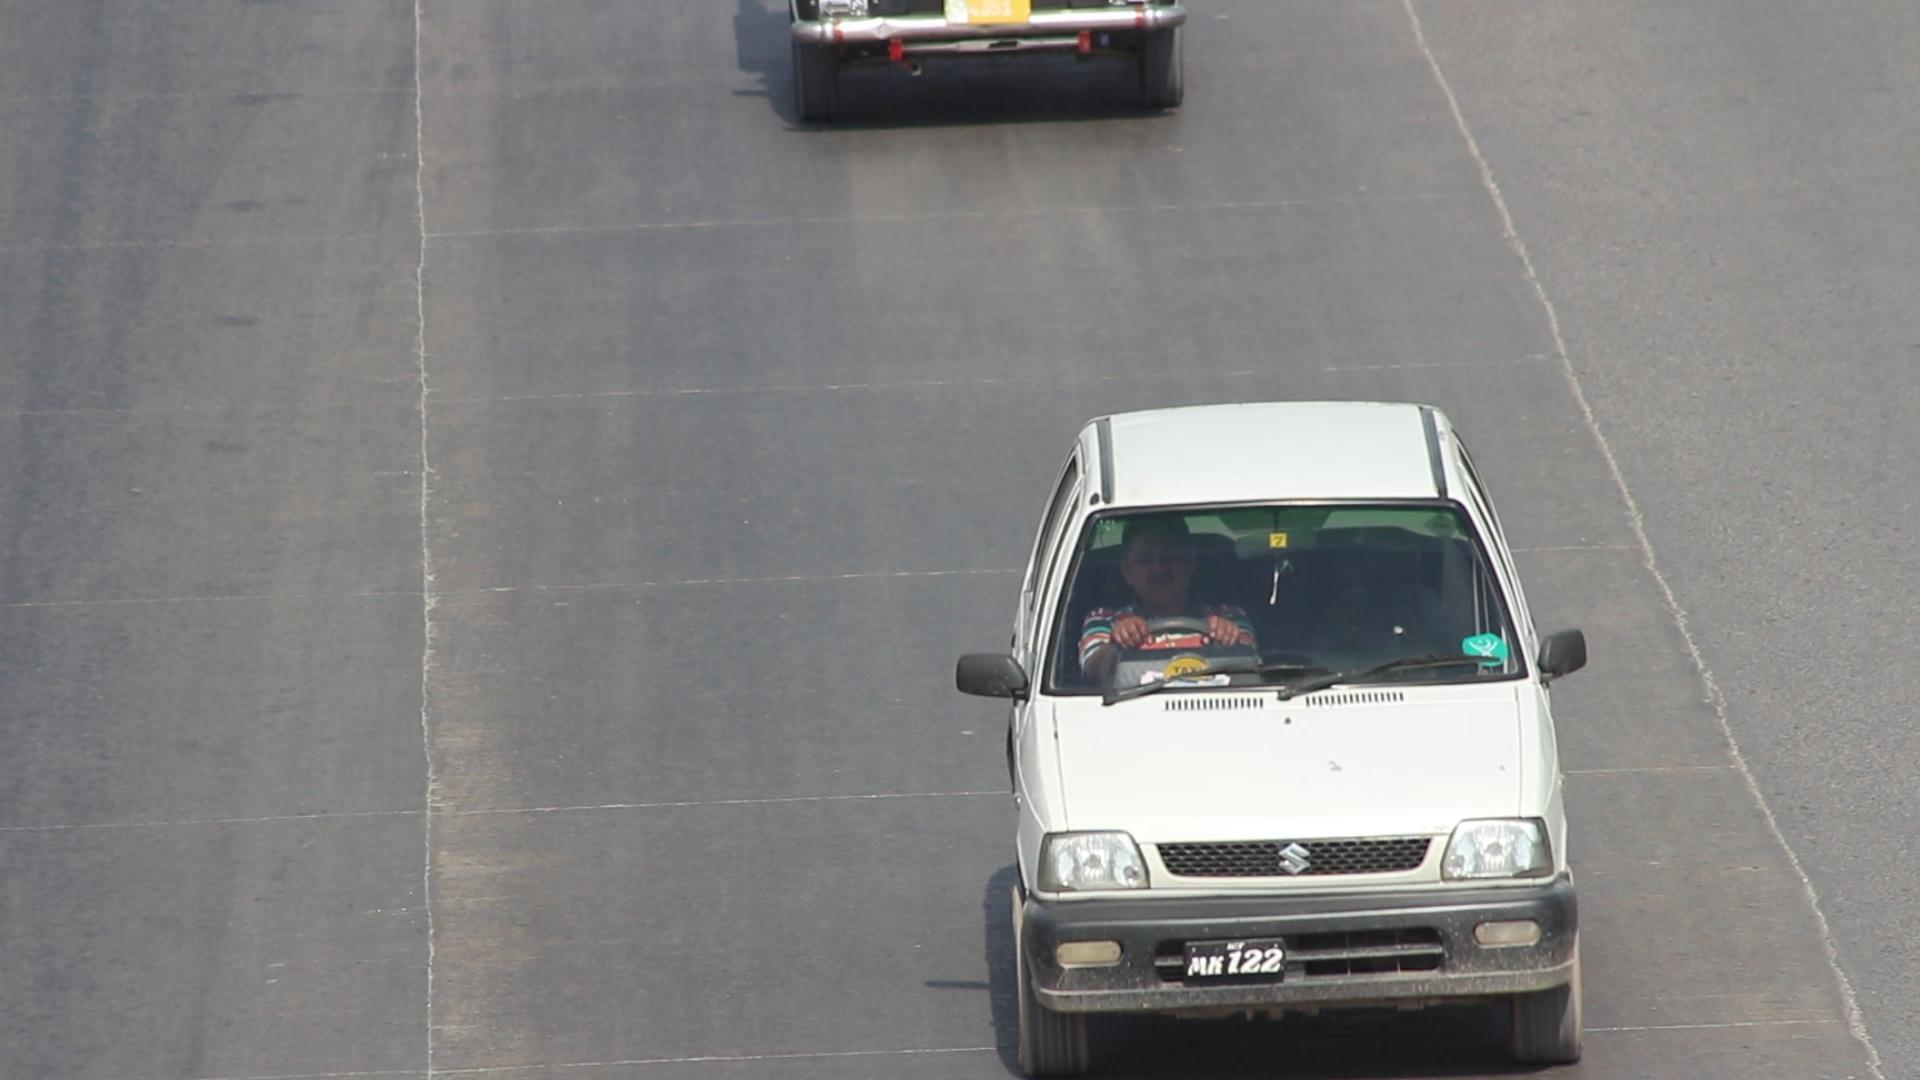windshield: (1031, 480, 1540, 713)
